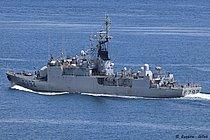MIL_Ship: (5, 16, 203, 98)
